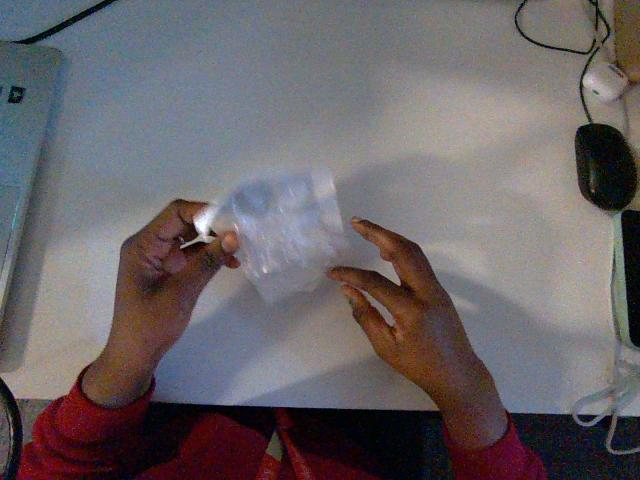gallipot: (194, 169, 346, 302)
